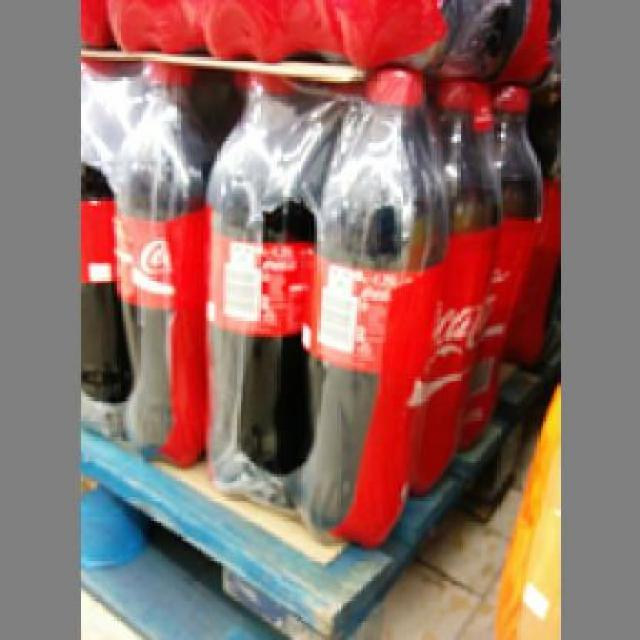Soda: (300, 68, 449, 544), (203, 66, 320, 494), (105, 57, 208, 466)
